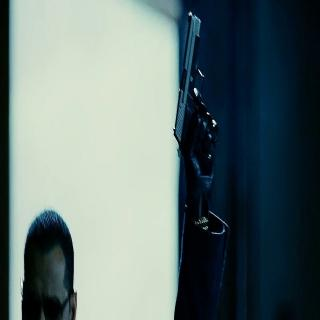gun: (171, 6, 221, 172)
